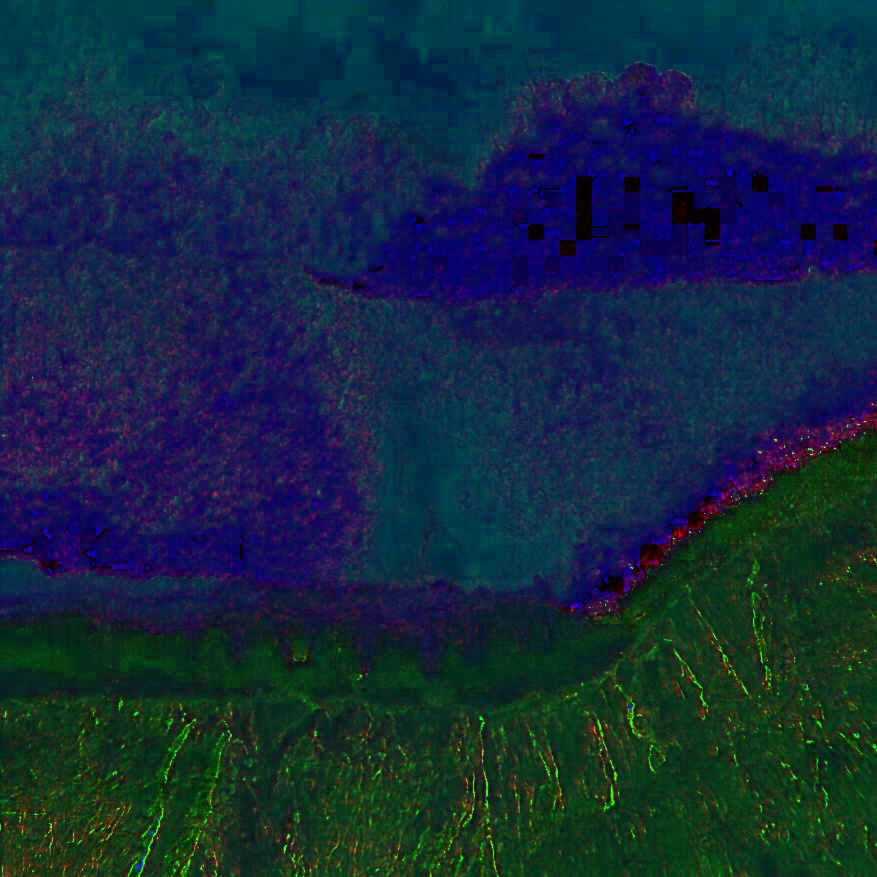rip_current: (234, 119, 566, 590)
